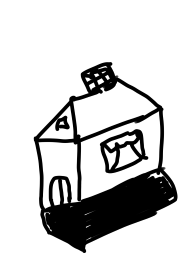chimney: (78, 59, 124, 100)
door: (43, 175, 78, 210)
open_window: (95, 126, 151, 175)
roof: (23, 87, 169, 145)
shadow: (33, 168, 182, 254)
wall: (68, 107, 169, 200)
